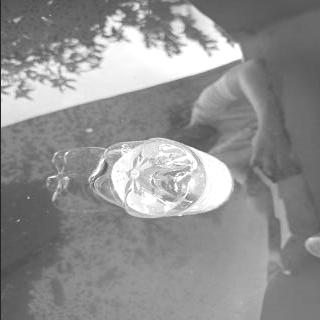bottle: (88, 136, 234, 218)
